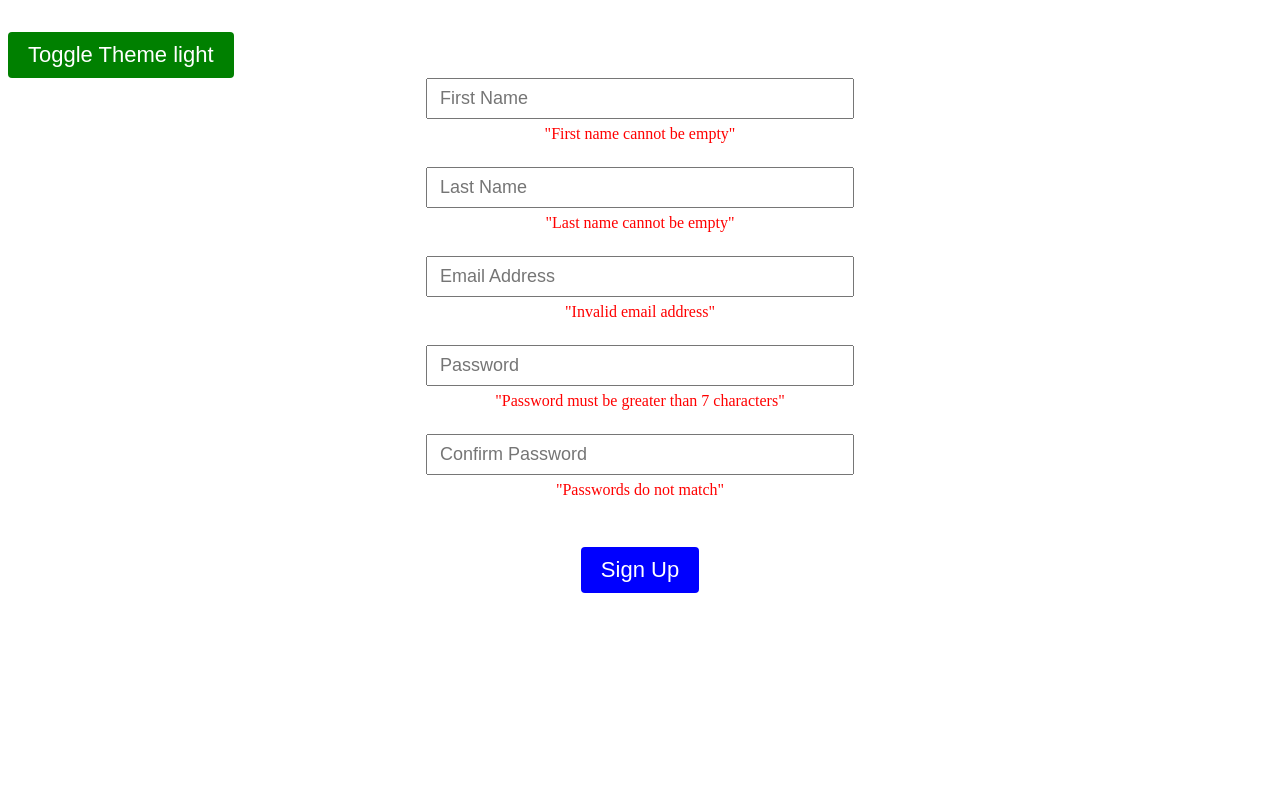
Test case: App Component › Toggles theme to dark when clicked on toggle theme button
This screenshot has width=1280, height=800.
Click the button "Toggle Theme light" at (121, 55), box [8, 32, 234, 78]
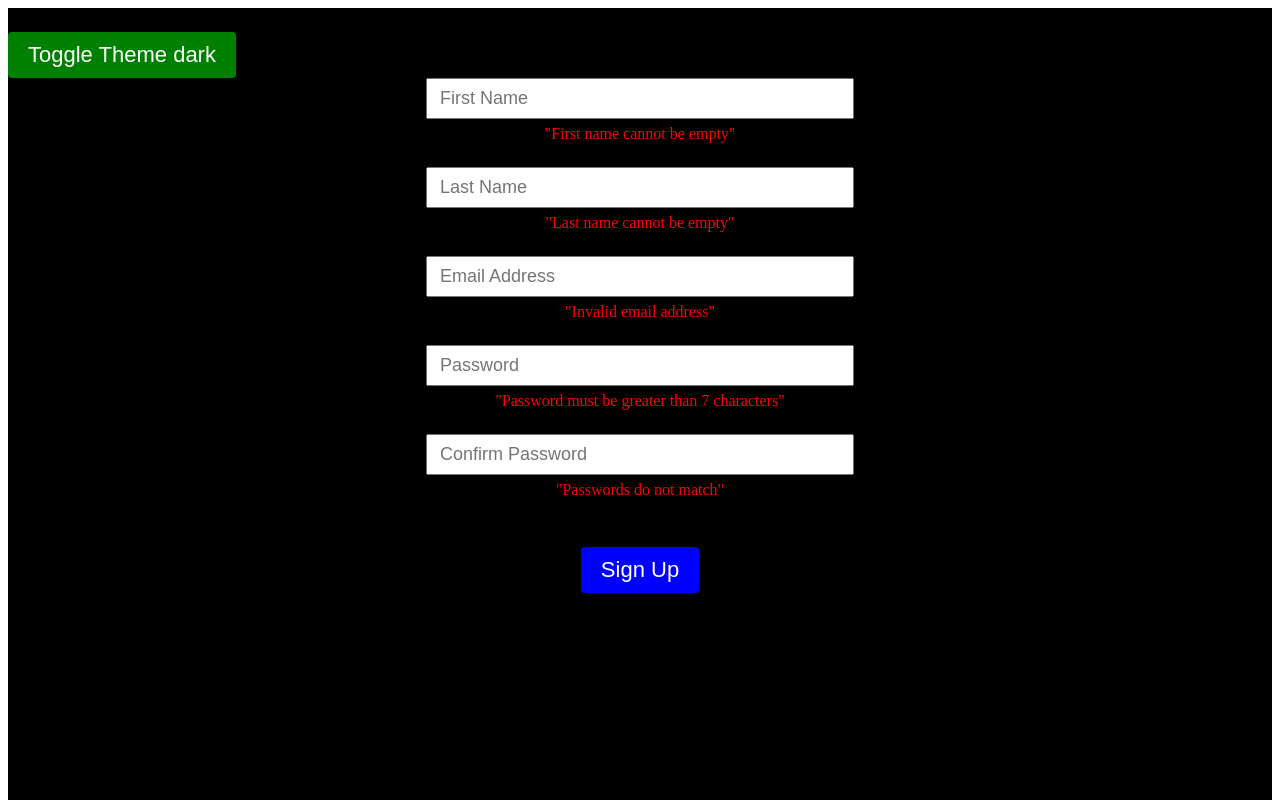
expect the button "Toggle Theme dark" is shown: met, box [8, 32, 236, 78]
